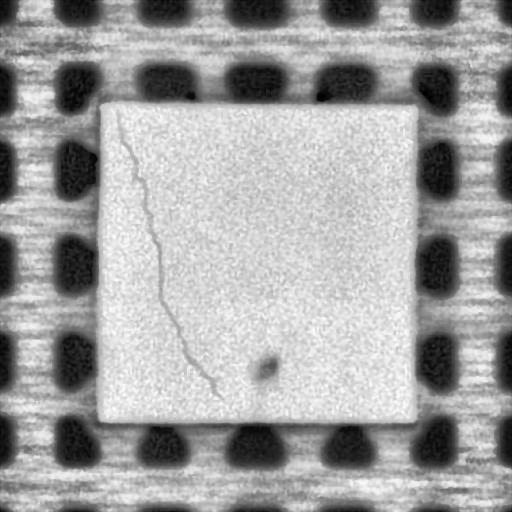DIE_CRACK: (112, 106, 224, 402)
